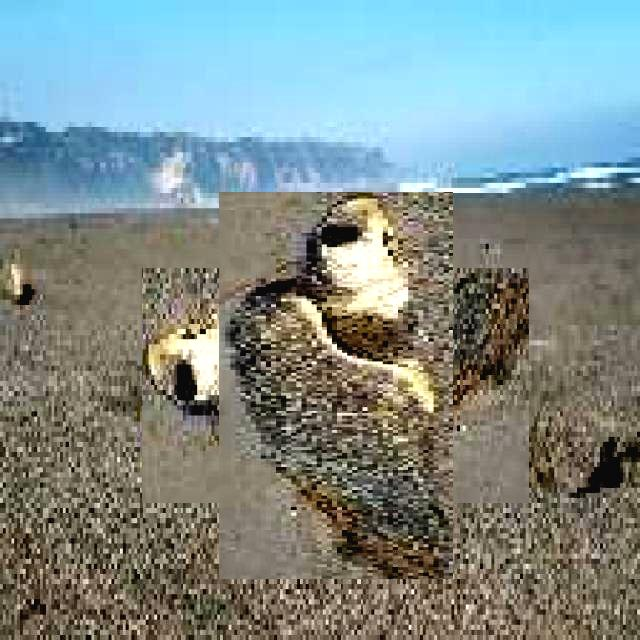Sea turtle: (180, 230, 491, 541)
